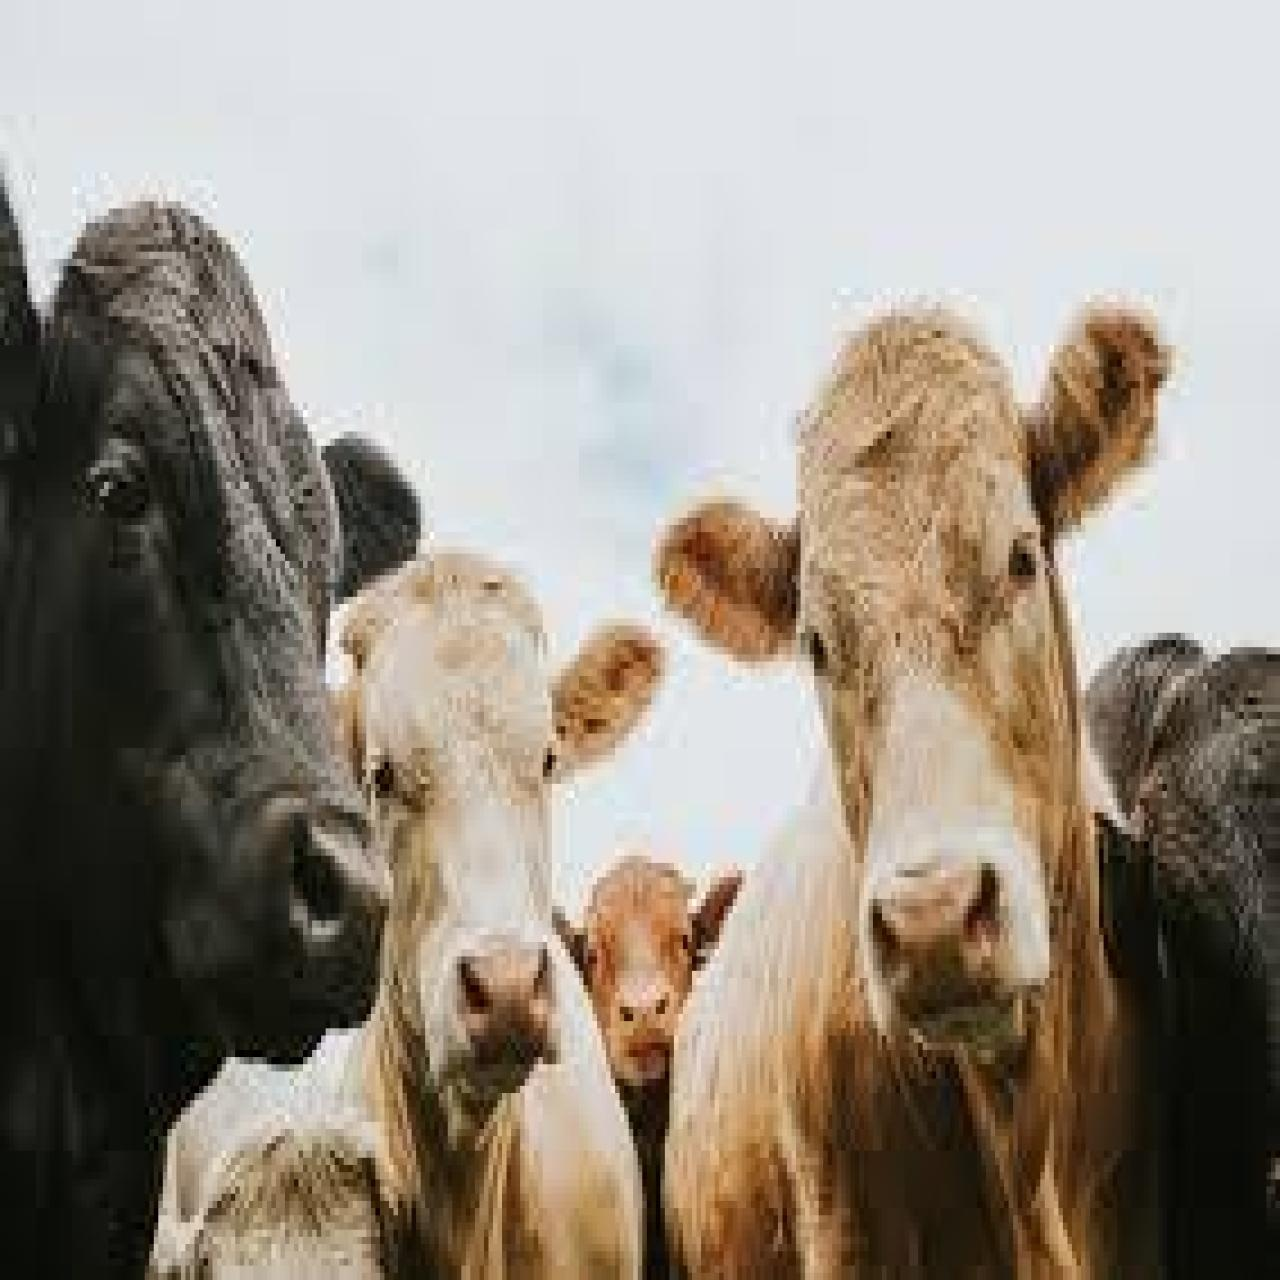cow: (670, 287, 1173, 1280), (0, 207, 420, 1280), (147, 539, 667, 1280), (1081, 633, 1280, 1280), (547, 842, 764, 1085)
